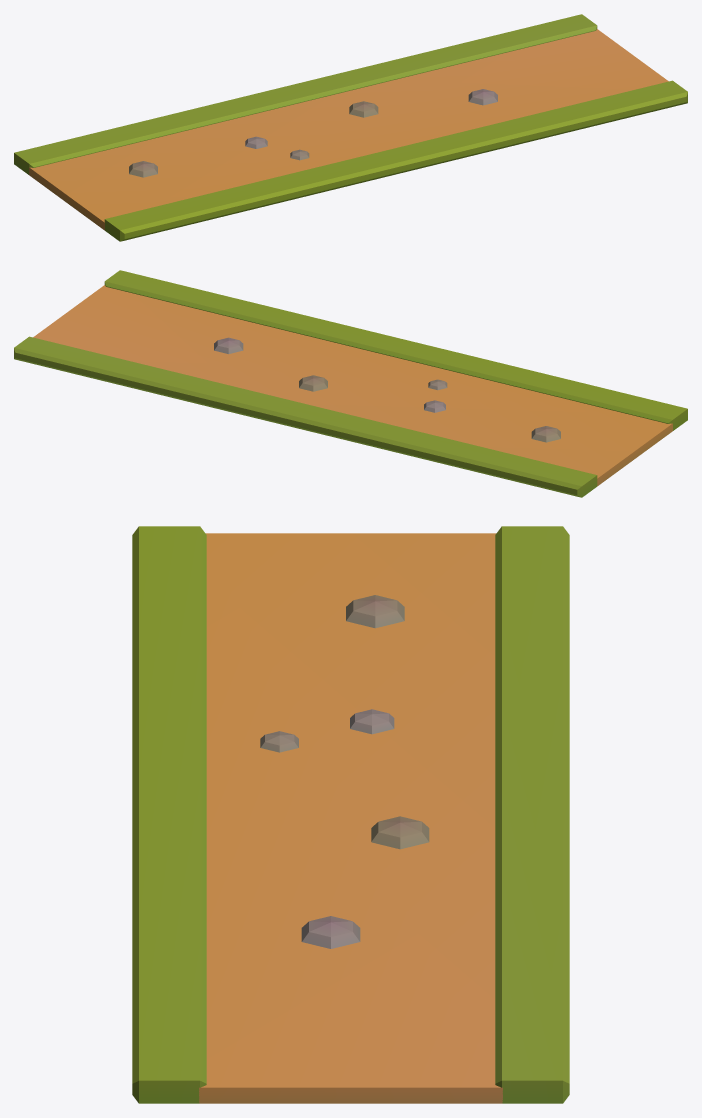
Rendered from Farm_FieldPath_3m.glb.
The picture shows the model from 3 angles, top to bottom: view 1: azimuth 30°, elevation 25°; view 2: azimuth 150°, elevation 25°; view 3: azimuth 270°, elevation 25°; orthographic projection. The views are drawn at different scales.
Parts seen in each view (by area): view 1: Farm_FieldPath_3m; view 2: Farm_FieldPath_3m; view 3: Farm_FieldPath_3m.
Boxes of the visible parts, x1,y1,x2,y2 form: Farm_FieldPath_3m: [14, 14, 687, 241]; Farm_FieldPath_3m: [14, 270, 687, 497]; Farm_FieldPath_3m: [132, 526, 569, 1103].
Bounding box in the file's own units: 3 × 0.0738 × 1.
